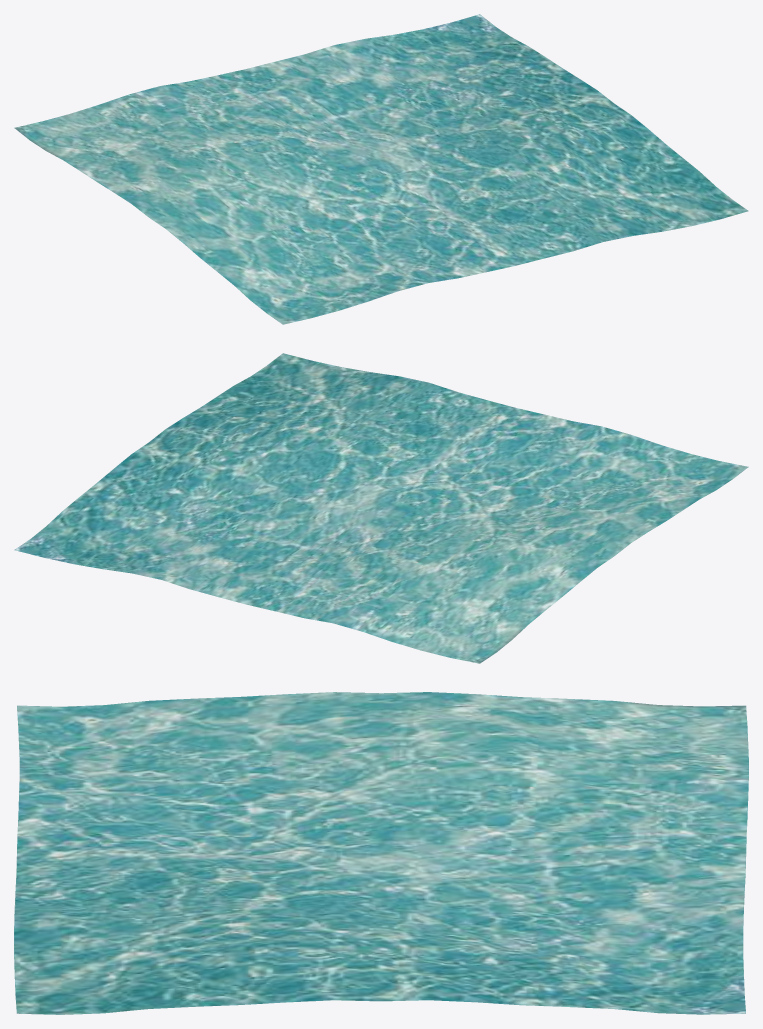
File: water_000214.obj
3 views of the same model, one above another, from view 1: azimuth 30°, elevation 25°; view 2: azimuth 150°, elevation 25°; view 3: azimuth 270°, elevation 25° (orthographic). The views are drawn at different scales.
Parts seen in each view (by area): view 1: Plan.003_Plan.001; view 2: Plan.003_Plan.001; view 3: Plan.003_Plan.001.
Part boxes in pixels (bbox=[...]): Plan.003_Plan.001: bbox=[14, 14, 748, 324]; Plan.003_Plan.001: bbox=[14, 353, 748, 663]; Plan.003_Plan.001: bbox=[14, 692, 748, 1014].
Bounding box in the file's own units: 60396 × 1850 × 60805.
